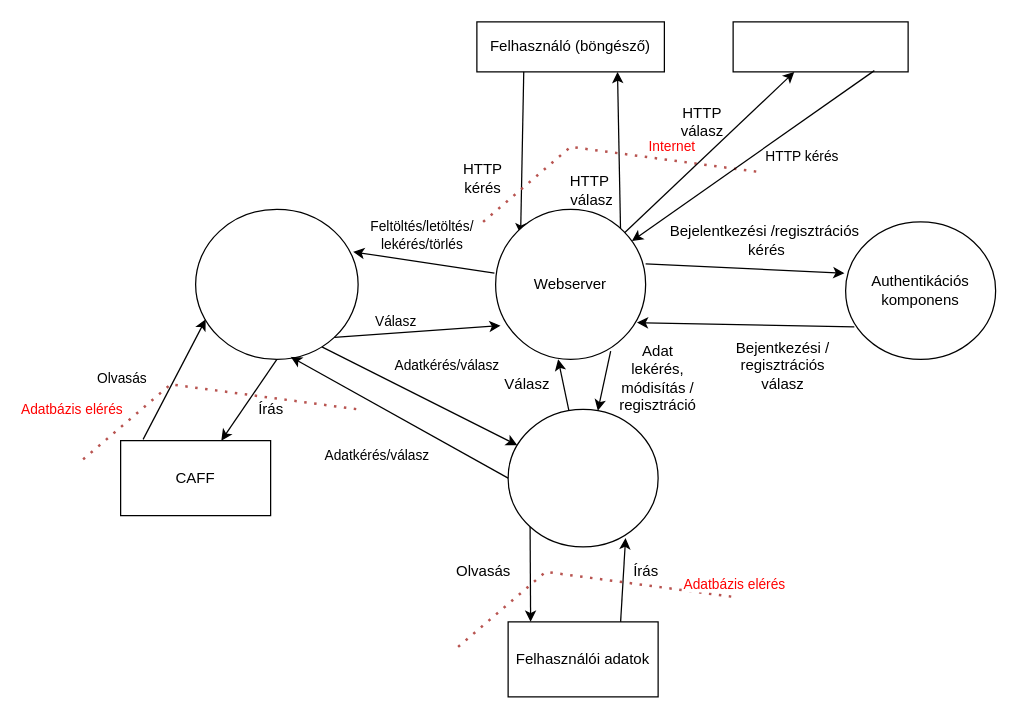
Some shapes in this 1019 by 719 pixel diagram are drawn without their labels. The shapes that lost their labels are listed below. From the top down, each one's centre as x and y in pixels, then its label:
At point 820,46: "Admin (böngésző)".
At point 276,283: "CAFF - kezelő".
At point 582,477: "Felhasználói adatkezelő".
